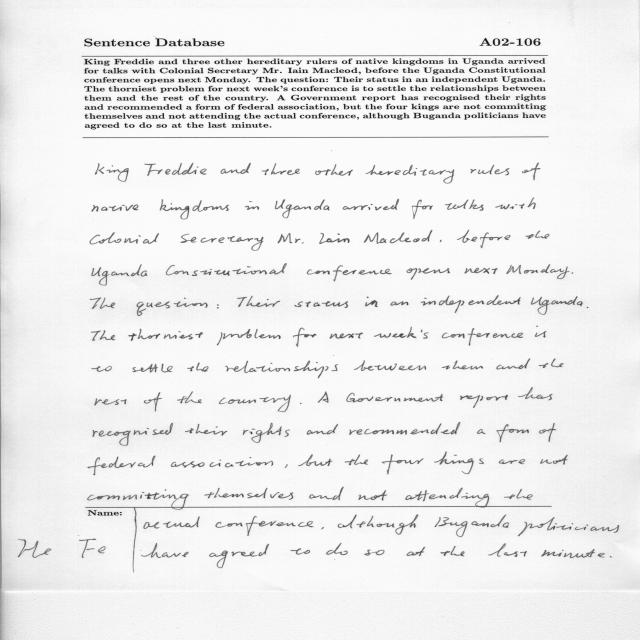word: (225, 361, 338, 379), (93, 423, 173, 446), (421, 295, 521, 313), (366, 165, 455, 184), (442, 328, 523, 346), (166, 264, 287, 276), (349, 422, 460, 435), (180, 234, 264, 251), (160, 200, 229, 220), (307, 266, 392, 282), (88, 456, 156, 475), (137, 298, 208, 316), (219, 395, 291, 412), (92, 264, 147, 286), (171, 457, 273, 468), (434, 452, 484, 474), (275, 199, 329, 218), (217, 329, 281, 345), (531, 296, 583, 315), (346, 393, 443, 403), (457, 230, 510, 248), (364, 230, 432, 244), (507, 264, 570, 279), (243, 423, 290, 443), (128, 329, 203, 341), (90, 232, 159, 245), (382, 455, 423, 475), (145, 163, 207, 176), (354, 360, 426, 371), (374, 327, 429, 339), (95, 163, 129, 182), (460, 395, 508, 408), (343, 199, 399, 210), (496, 424, 529, 442), (407, 268, 450, 280), (185, 424, 228, 436), (237, 296, 280, 307), (262, 163, 300, 175), (315, 164, 353, 176), (293, 328, 317, 347), (518, 388, 553, 401), (495, 198, 536, 209), (471, 165, 510, 176), (445, 200, 484, 211), (298, 454, 333, 466), (412, 200, 433, 219), (496, 359, 530, 370), (295, 301, 348, 308), (442, 361, 483, 370), (144, 392, 162, 412), (220, 163, 251, 174), (319, 233, 350, 244), (307, 424, 338, 435), (132, 364, 173, 372), (539, 423, 556, 442), (92, 205, 138, 212), (522, 163, 540, 180), (90, 297, 115, 309), (177, 392, 202, 404), (540, 455, 568, 465), (92, 330, 116, 341), (278, 233, 304, 243), (345, 455, 368, 466), (330, 332, 364, 339), (539, 359, 564, 368), (95, 399, 127, 406), (464, 268, 498, 274), (187, 363, 209, 372), (526, 231, 550, 239), (365, 297, 378, 307), (499, 459, 525, 464), (245, 201, 259, 210), (535, 326, 546, 337), (318, 392, 329, 403), (92, 366, 112, 372), (391, 301, 409, 306), (477, 429, 486, 434), (285, 464, 288, 468), (217, 305, 219, 309), (440, 240, 442, 242), (571, 273, 573, 274), (300, 403, 302, 404), (587, 307, 588, 308)
